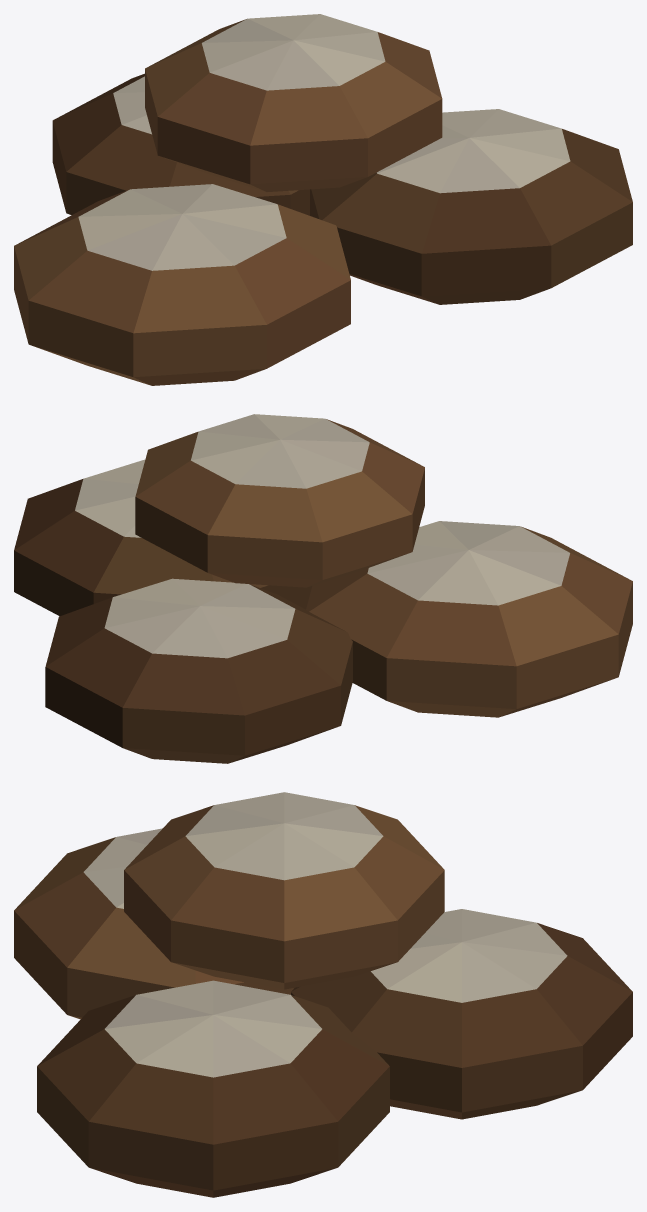
The model's file is storage_rye_bread.glb.
The picture shows the model from 3 angles, top to bottom: view 1: azimuth 30°, elevation 25°; view 2: azimuth 150°, elevation 25°; view 3: azimuth 270°, elevation 25°; orthographic projection. The views are drawn at different scales.
Visible parts, largest first — view 1: storage_rye_bread; view 2: storage_rye_bread; view 3: storage_rye_bread.
Part boxes in pixels (left/top/right/bottom): storage_rye_bread: left=14, top=14, right=632, bottom=385; storage_rye_bread: left=14, top=414, right=632, bottom=763; storage_rye_bread: left=14, top=792, right=632, bottom=1197.
Size of the model in its own units: 1.26 by 0.4988 by 1.05.
